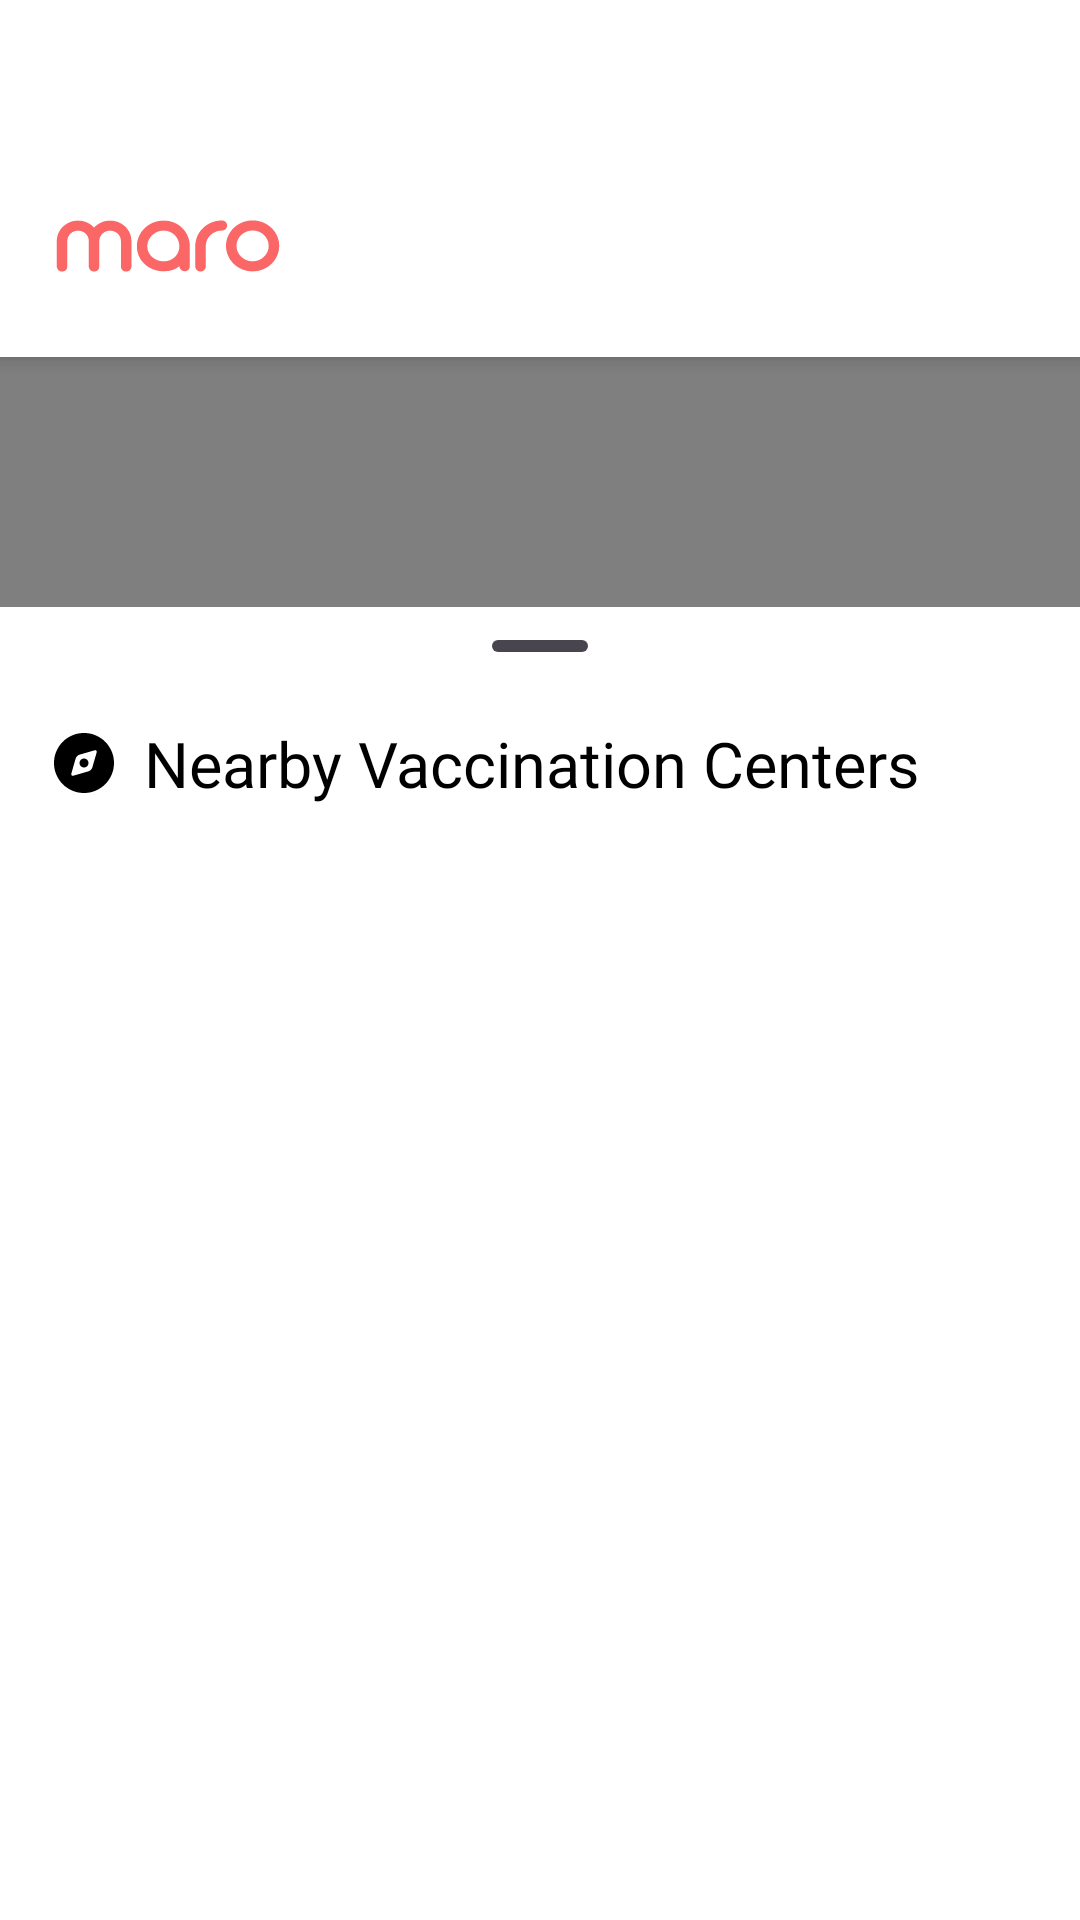

Screen size 1080*1920. Icon name, then its box in pixels as (x1, y1, x2, y2):
compass: (54, 733, 114, 793)
